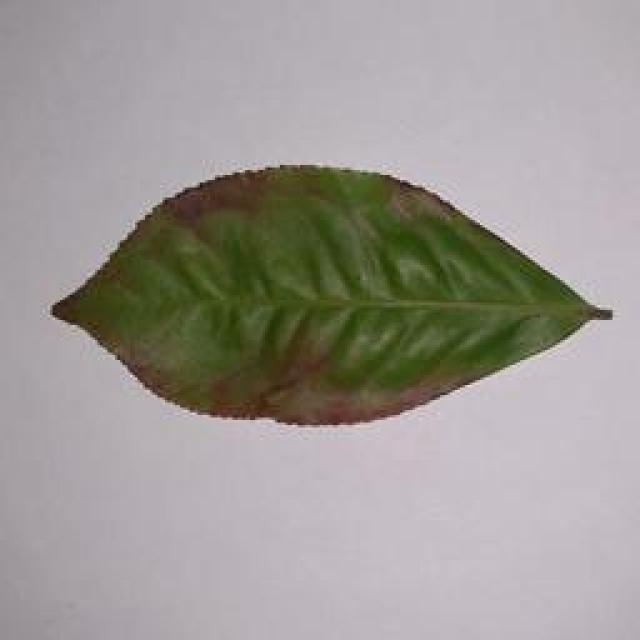Red Leaf Spot: (26, 162, 618, 437)
